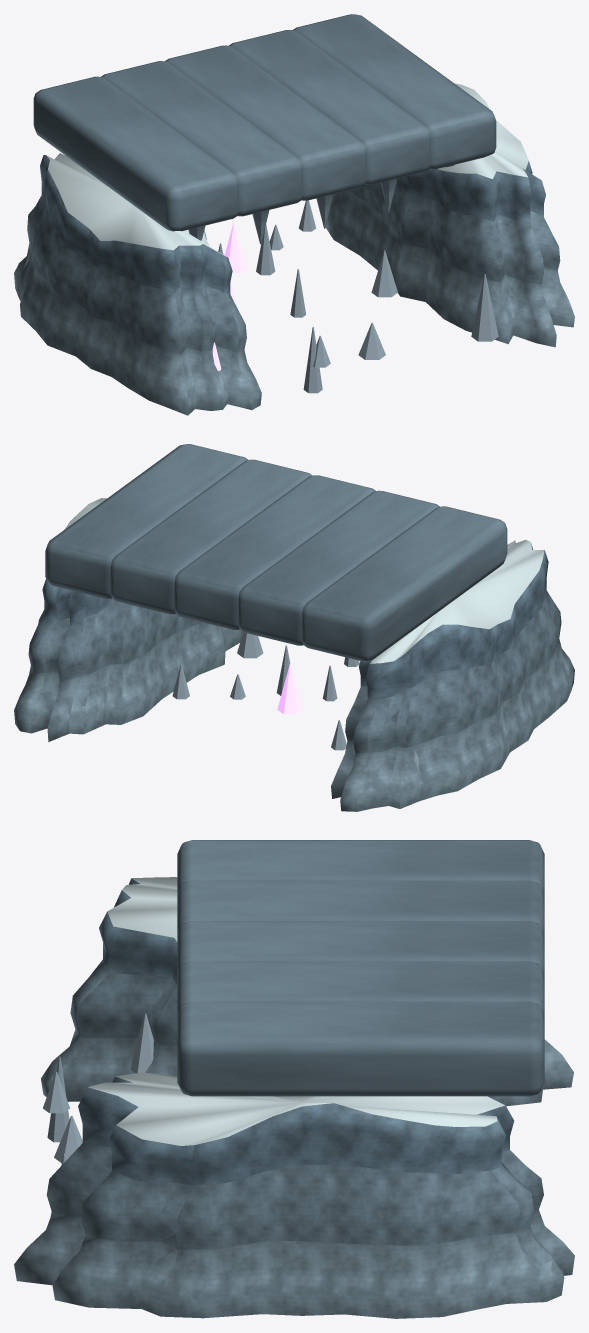
The model's file is crystal-cavern-v1.glb.
3 views of the same model, one above another, from view 1: azimuth 30°, elevation 25°; view 2: azimuth 150°, elevation 25°; view 3: azimuth 270°, elevation 25° (orthographic). The views are drawn at different scales.
Visible parts, largest first — view 1: crystal-cavern strata 1, crystal-cavern strata 0, crystal-cavern strata 2, crystal-cavern mantle, crystal-cavern trim, crystal-cavern lighting; view 2: crystal-cavern strata 1, crystal-cavern strata 0, crystal-cavern strata 2, crystal-cavern mantle, crystal-cavern trim, crystal-cavern lighting; view 3: crystal-cavern strata 1, crystal-cavern strata 0, crystal-cavern strata 2, crystal-cavern mantle, crystal-cavern trim.
Boxes of the visible parts, bbox=[...] form: crystal-cavern strata 1: bbox=[27, 14, 560, 354]; crystal-cavern strata 0: bbox=[14, 164, 574, 415]; crystal-cavern strata 2: bbox=[40, 155, 545, 294]; crystal-cavern mantle: bbox=[46, 83, 528, 256]; crystal-cavern trim: bbox=[23, 200, 498, 393]; crystal-cavern lighting: bbox=[212, 222, 246, 370]; crystal-cavern strata 1: bbox=[28, 444, 561, 752]; crystal-cavern strata 0: bbox=[14, 622, 574, 811]; crystal-cavern strata 2: bbox=[42, 540, 548, 698]; crystal-cavern mantle: bbox=[64, 498, 544, 663]; crystal-cavern trim: bbox=[172, 632, 418, 770]; crystal-cavern lighting: bbox=[277, 663, 303, 714]; crystal-cavern strata 1: bbox=[46, 840, 544, 1249]; crystal-cavern strata 0: bbox=[14, 1029, 574, 1318]; crystal-cavern strata 2: bbox=[78, 878, 514, 1185]; crystal-cavern mantle: bbox=[88, 877, 504, 1145]; crystal-cavern trim: bbox=[43, 1013, 153, 1216].
Bounding box in the file's own units: 89.88 × 36.7 × 76.41.
Materials: 6 (3 with a texture image).
